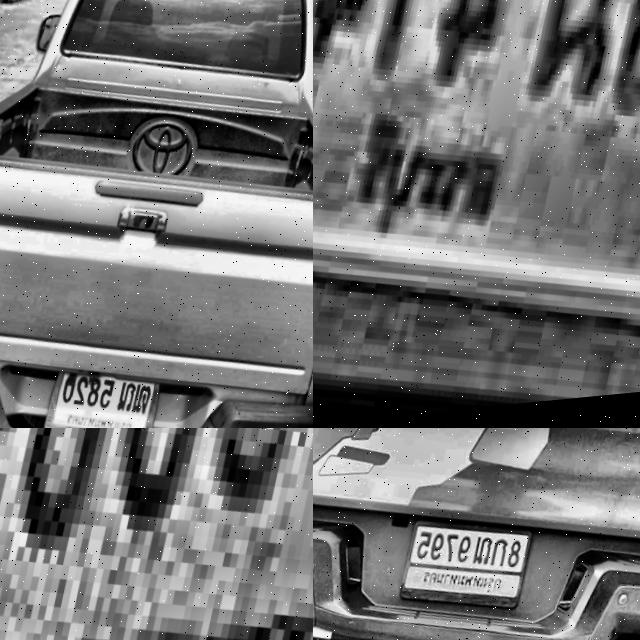license-plate: (313, 0, 640, 380), (0, 428, 313, 640), (402, 516, 536, 624), (37, 354, 176, 428)
